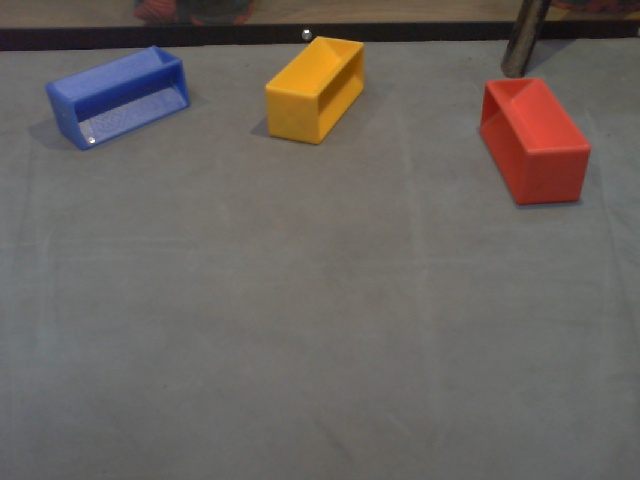BlueSample: (42, 41, 190, 153)
RedSample: (474, 69, 596, 213)
YellowSample: (263, 31, 365, 147)
